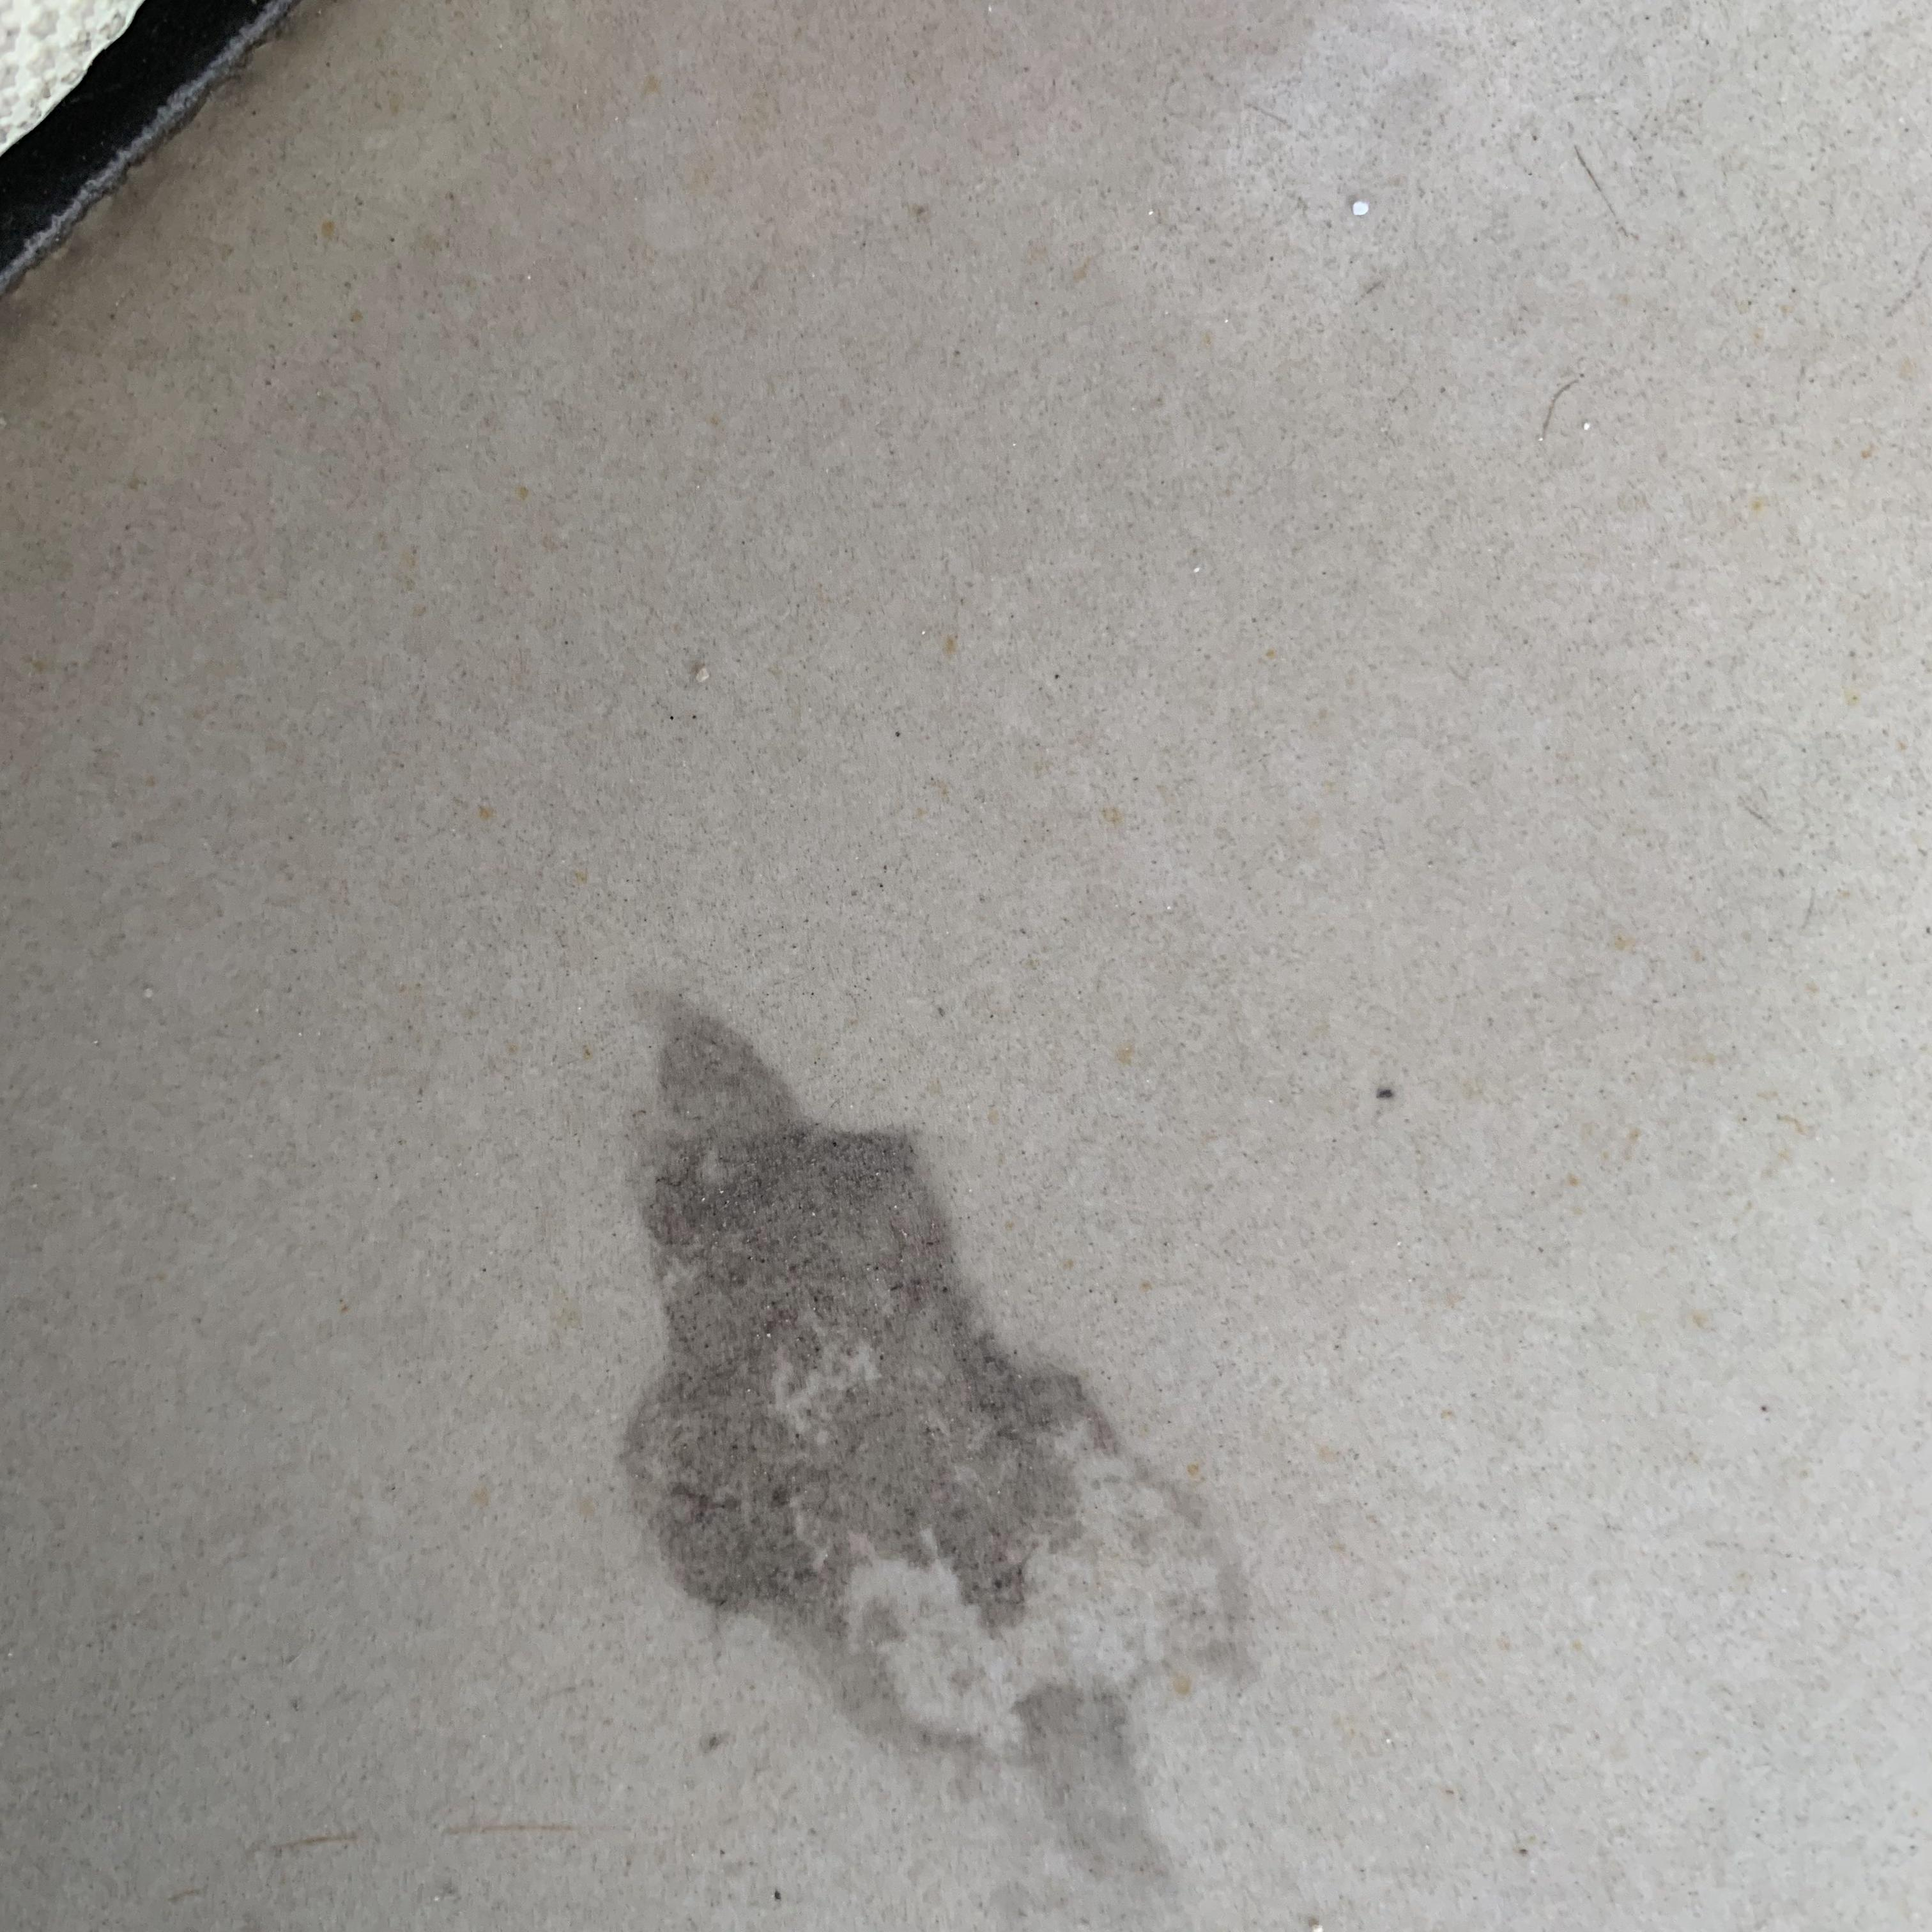grey spot: (617, 984, 1256, 1932)
